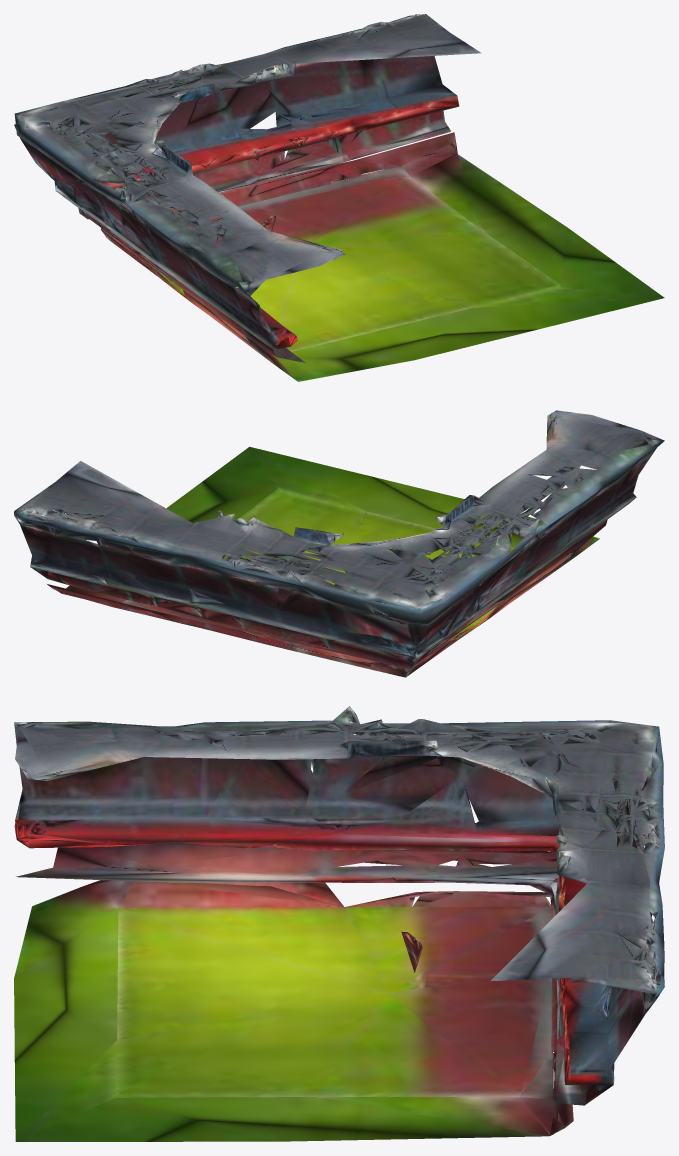
The model's file is stadium.glb.
3 renders of one model, top to bottom at view 1: azimuth 30°, elevation 25°; view 2: azimuth 150°, elevation 25°; view 3: azimuth 270°, elevation 25°, orthographic. The views are drawn at different scales.
Parts seen in each view (by area): view 1: Mesh_0; view 2: Mesh_0; view 3: Mesh_0.
Boxes of the visible parts, x1=… form: Mesh_0: x1=14, y1=14, x2=664, y2=381; Mesh_0: x1=14, y1=410, x2=664, y2=677; Mesh_0: x1=14, y1=706, x2=664, y2=1141.
Size of the model in its own units: 132 by 39.3 by 132.
1 material, 1 textured.
